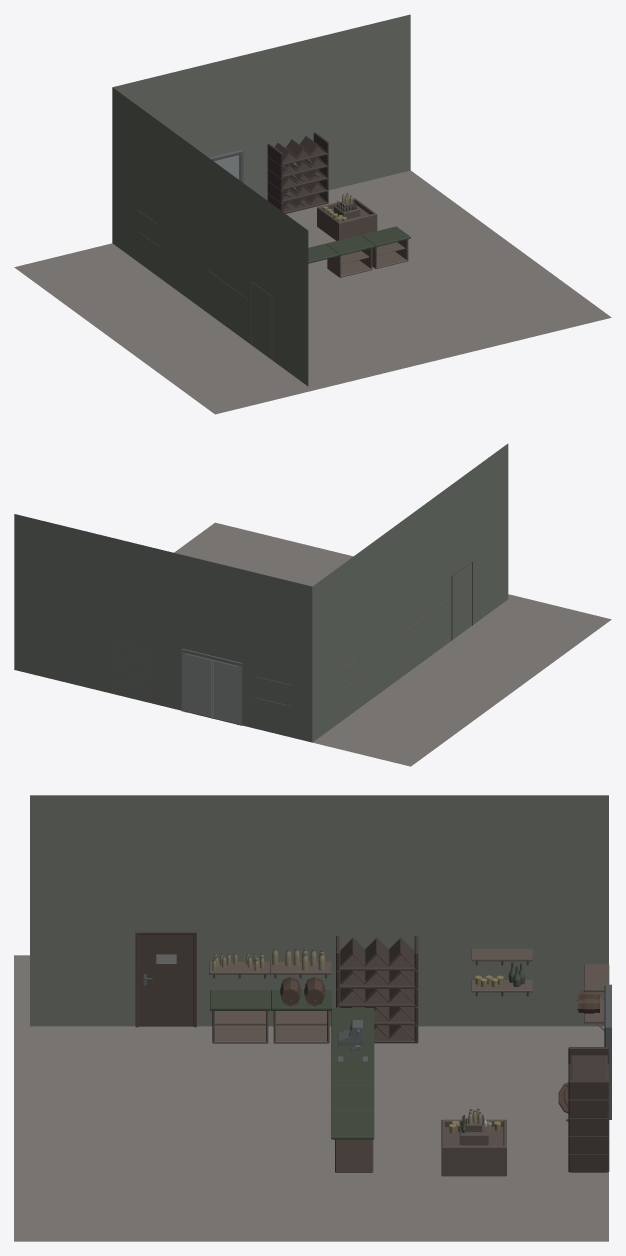
File: SceneCommandes.fbx
3 renders of one model, top to bottom at view 1: azimuth 30°, elevation 25°; view 2: azimuth 150°, elevation 25°; view 3: azimuth 270°, elevation 25°, orthographic. The views are drawn at different scales.
Parts seen in each view (by area): view 1: pPlane1, pCube1, pCube2, group6_pasted__pCube5, pasted__pCube1, polySurface20, polySurface23, polySurface22, polySurface25; view 2: pCube2, pCube1, pPlane1, pasted__pCube3, pasted__pCube4, pasted__pCube1; view 3: pPlane1, pCube1, group6_pasted__pCube6, group6_pasted__pCube5, polySurface26, pasted__pCube1 (×2), group10_pasted__pCube6, polySurface23, polySurface3, polySurface25, polySurface4, polySurface1 (+9 smaller).
Boxes of the visible parts, bbox=[...] form: pPlane1: bbox=[14, 170, 611, 414]; pCube1: bbox=[112, 87, 308, 386]; pCube2: bbox=[112, 14, 410, 200]; group6_pasted__pCube5: bbox=[267, 132, 328, 213]; pasted__pCube1: bbox=[317, 198, 377, 240]; polySurface20: bbox=[327, 248, 372, 277]; polySurface23: bbox=[372, 239, 408, 268]; polySurface22: bbox=[325, 235, 375, 255]; polySurface25: bbox=[361, 226, 410, 246]; pCube2: bbox=[14, 514, 312, 742]; pCube1: bbox=[312, 443, 508, 742]; pPlane1: bbox=[174, 522, 611, 766]; pasted__pCube3: bbox=[212, 659, 241, 724]; pasted__pCube4: bbox=[182, 652, 211, 718]; pasted__pCube1: bbox=[181, 648, 242, 725]; pPlane1: bbox=[14, 955, 608, 1241]; pCube1: bbox=[30, 795, 608, 1026]; group6_pasted__pCube6: bbox=[336, 936, 418, 1043]; group6_pasted__pCube5: bbox=[568, 1047, 609, 1172]; polySurface26: bbox=[139, 934, 193, 1026]; pasted__pCube1 (×2): bbox=[441, 984, 611, 1176]; group10_pasted__pCube6: bbox=[209, 948, 532, 996]; polySurface23: bbox=[335, 1139, 373, 1172]; polySurface3: bbox=[210, 990, 270, 1010]; polySurface25: bbox=[331, 1111, 374, 1139]; polySurface4: bbox=[273, 1011, 329, 1043]; polySurface1: bbox=[212, 1011, 268, 1043].
Size of the model in its own units: 1331 by 500 by 1174.
